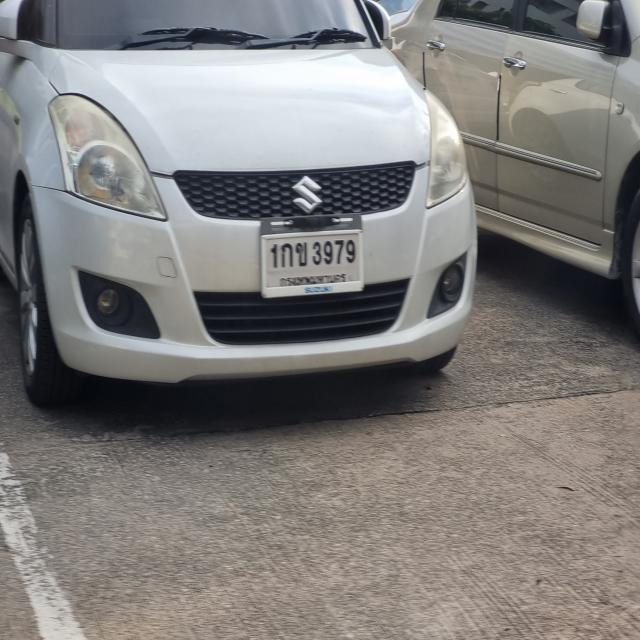license_plate: (260, 219, 366, 302)
